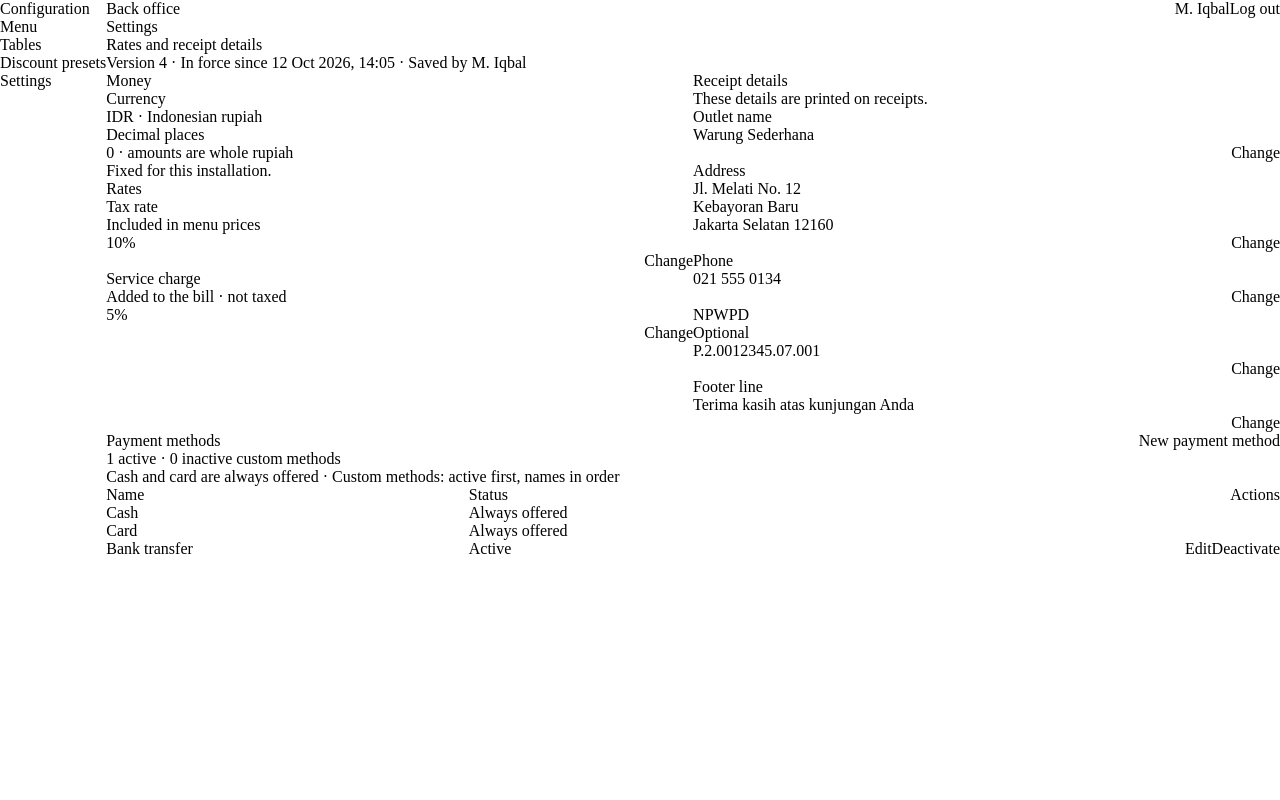
Scenario: AC 3. the name check in the form › refuses empty with its copy, focus on Method name, and sends nothing
Step 1. Click the button "New payment method" → point(1209, 441), box [1139,432,1279,450]
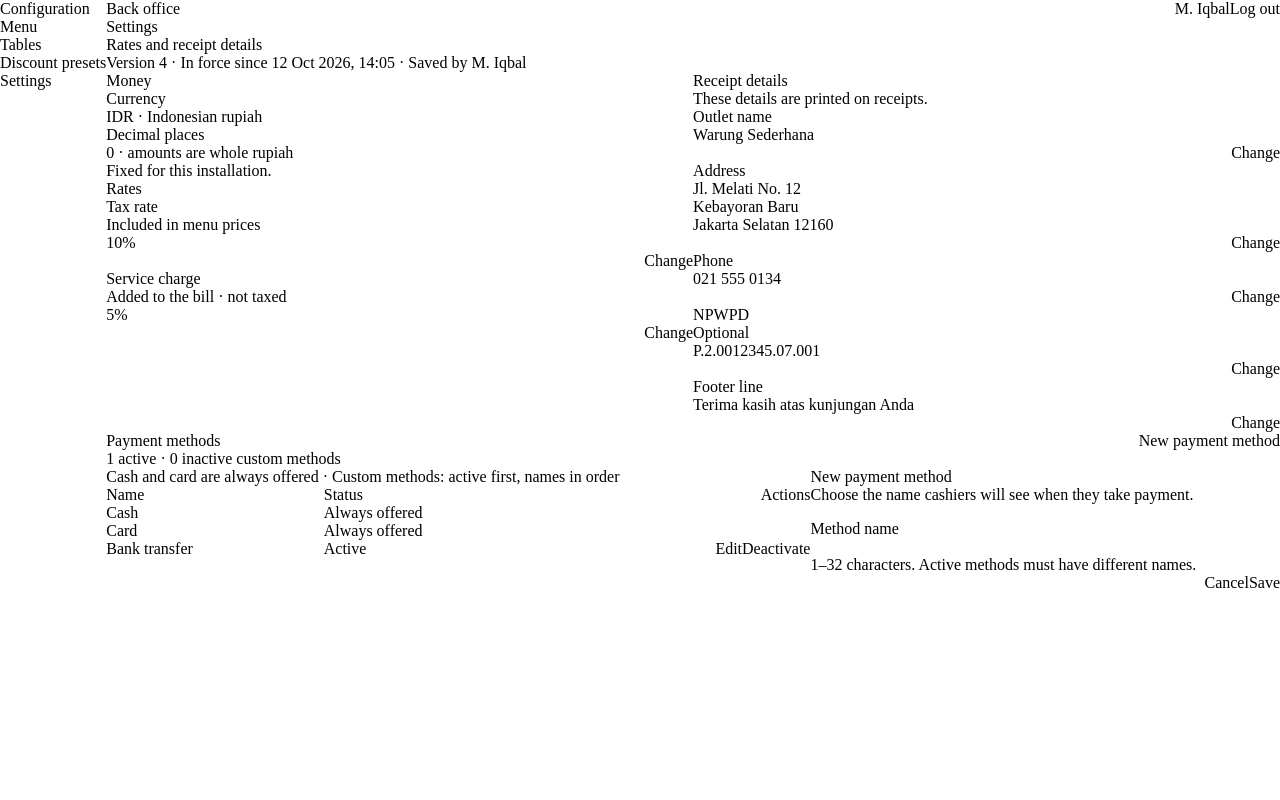
Step 2. Click the button with id "save-method" → point(1264, 583), box [1249,574,1279,592]
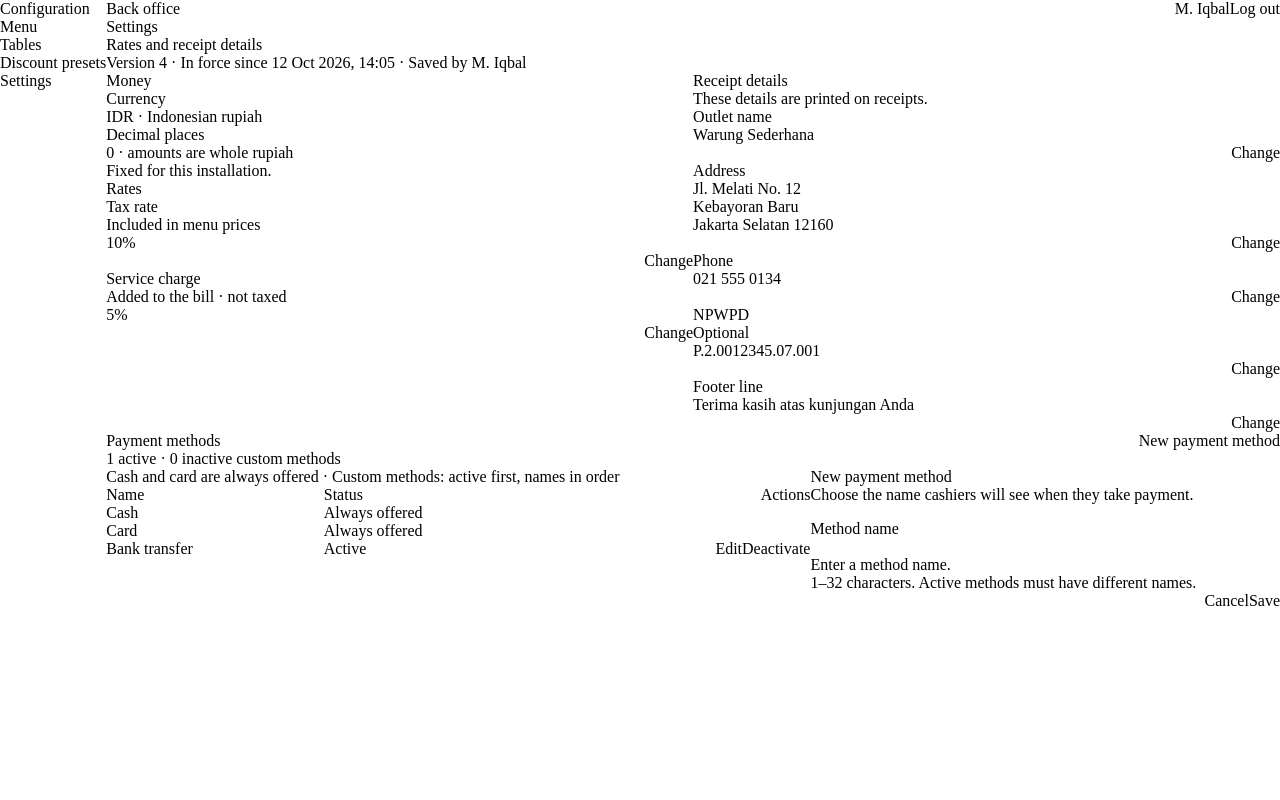
Check: the text "Enter a method name." is shown, box [810,556,951,573]
